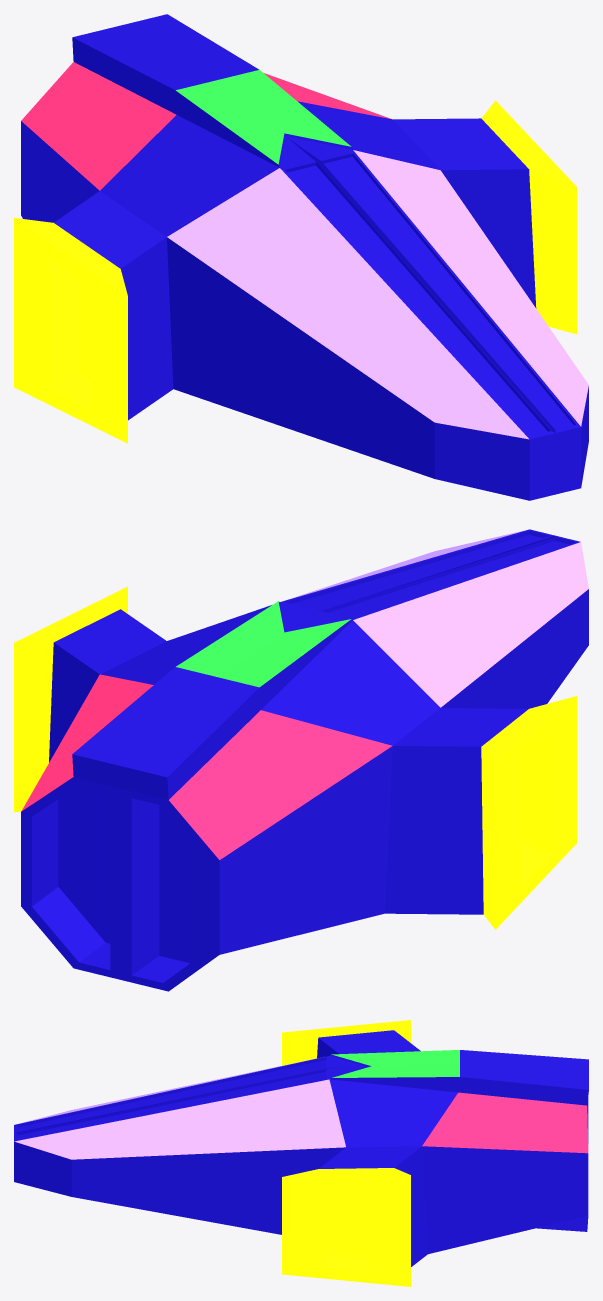
Rendered from Small_enemies_2.fbx.
3 views of the same model, one above another, from view 1: azimuth 30°, elevation 25°; view 2: azimuth 150°, elevation 25°; view 3: azimuth 270°, elevation 25° (orthographic). The views are drawn at different scales.
Visible parts, largest first — view 1: Cube; view 2: Cube; view 3: Cube.
Part boxes in pixels (box(x1,y1,x2,y2)): Cube: box(14, 14, 588, 500); Cube: box(14, 529, 588, 991); Cube: box(14, 1020, 588, 1286).
Size of the model in its own units: 142 by 65.58 by 223.
